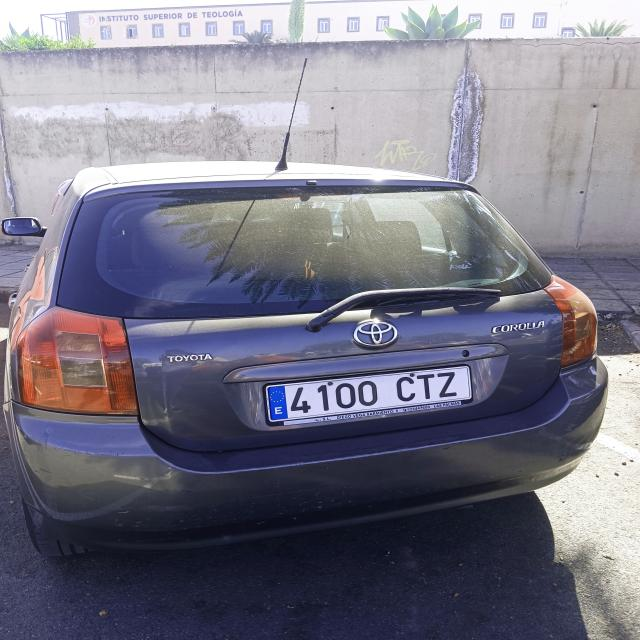football: (266, 364, 472, 424)
